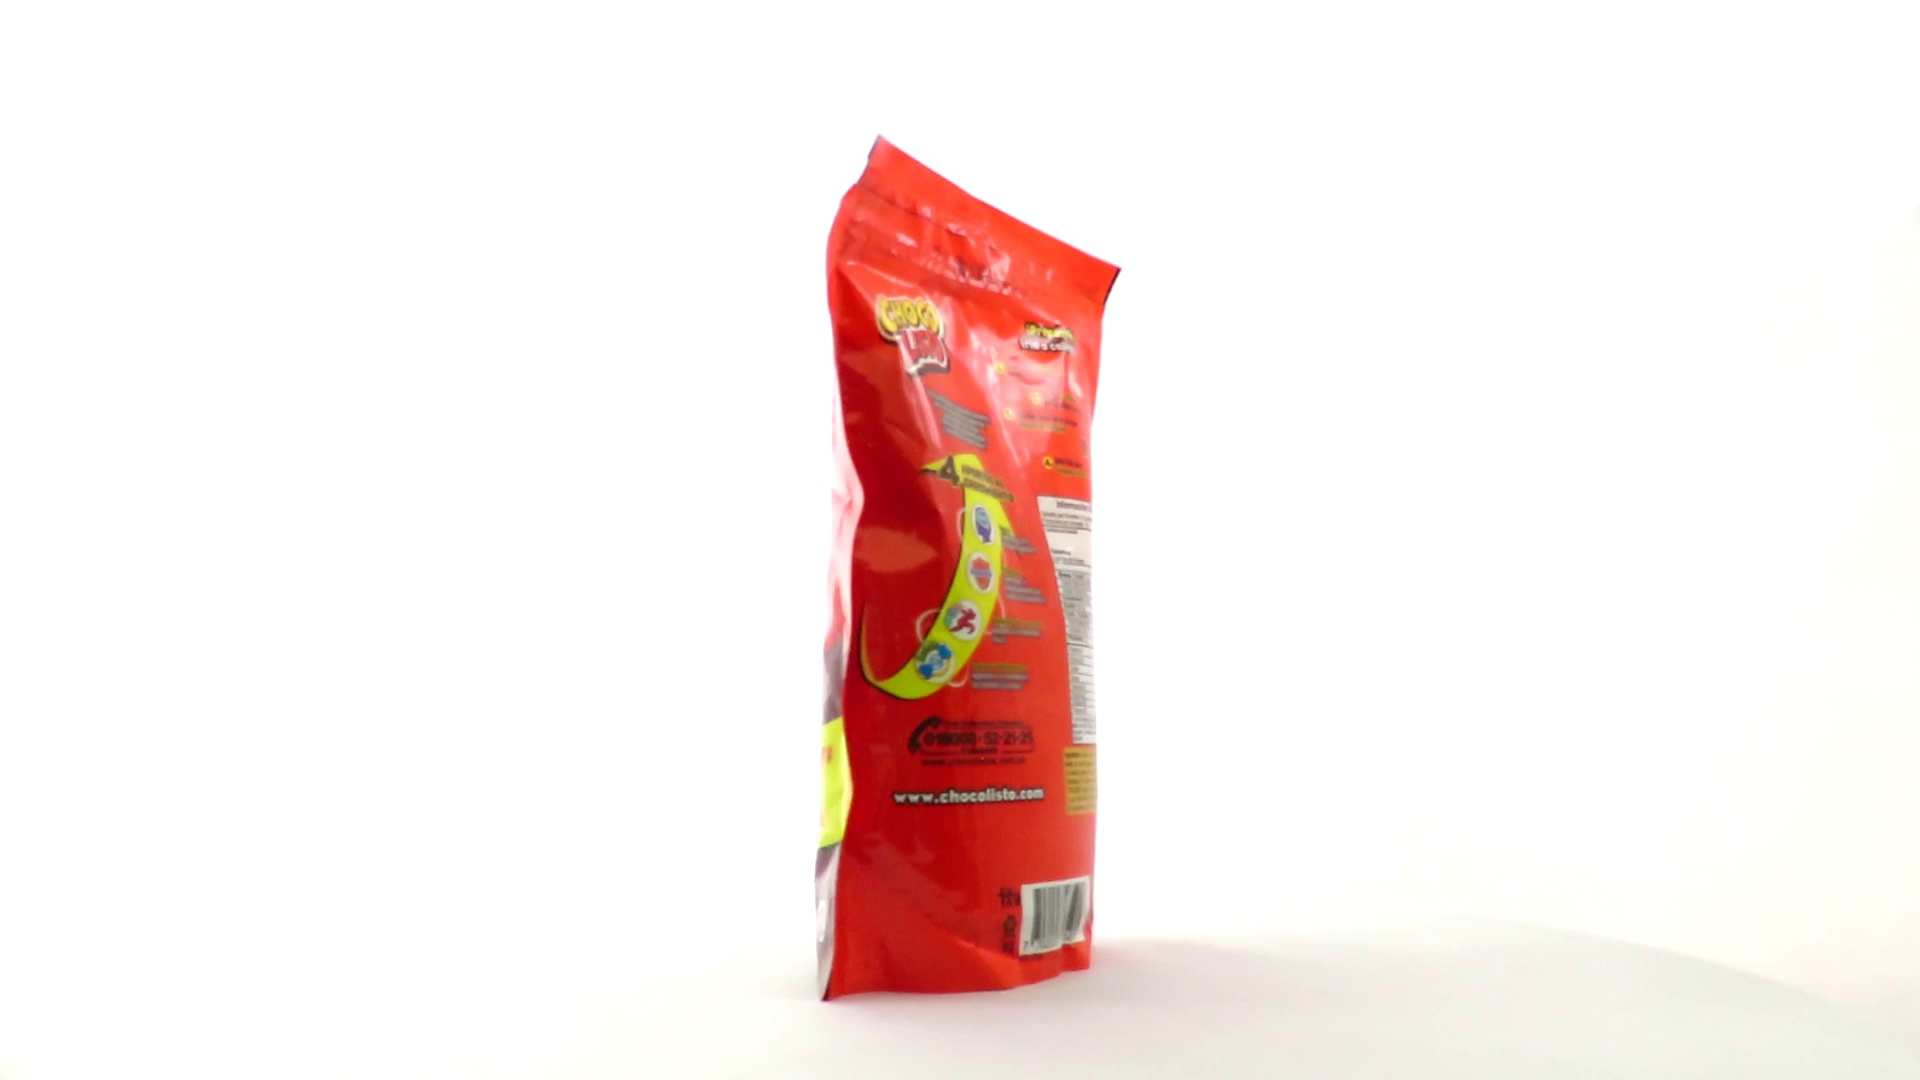COL0170103DYP36000: (808, 129, 1127, 1007)
